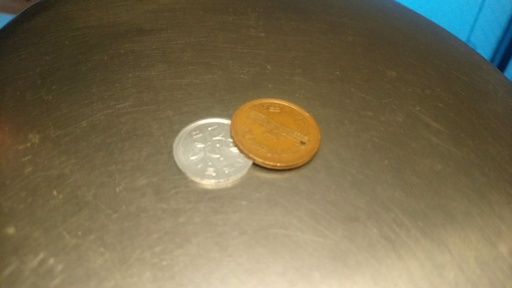10yen: (230, 98, 321, 169)
1yen: (172, 117, 256, 184)
